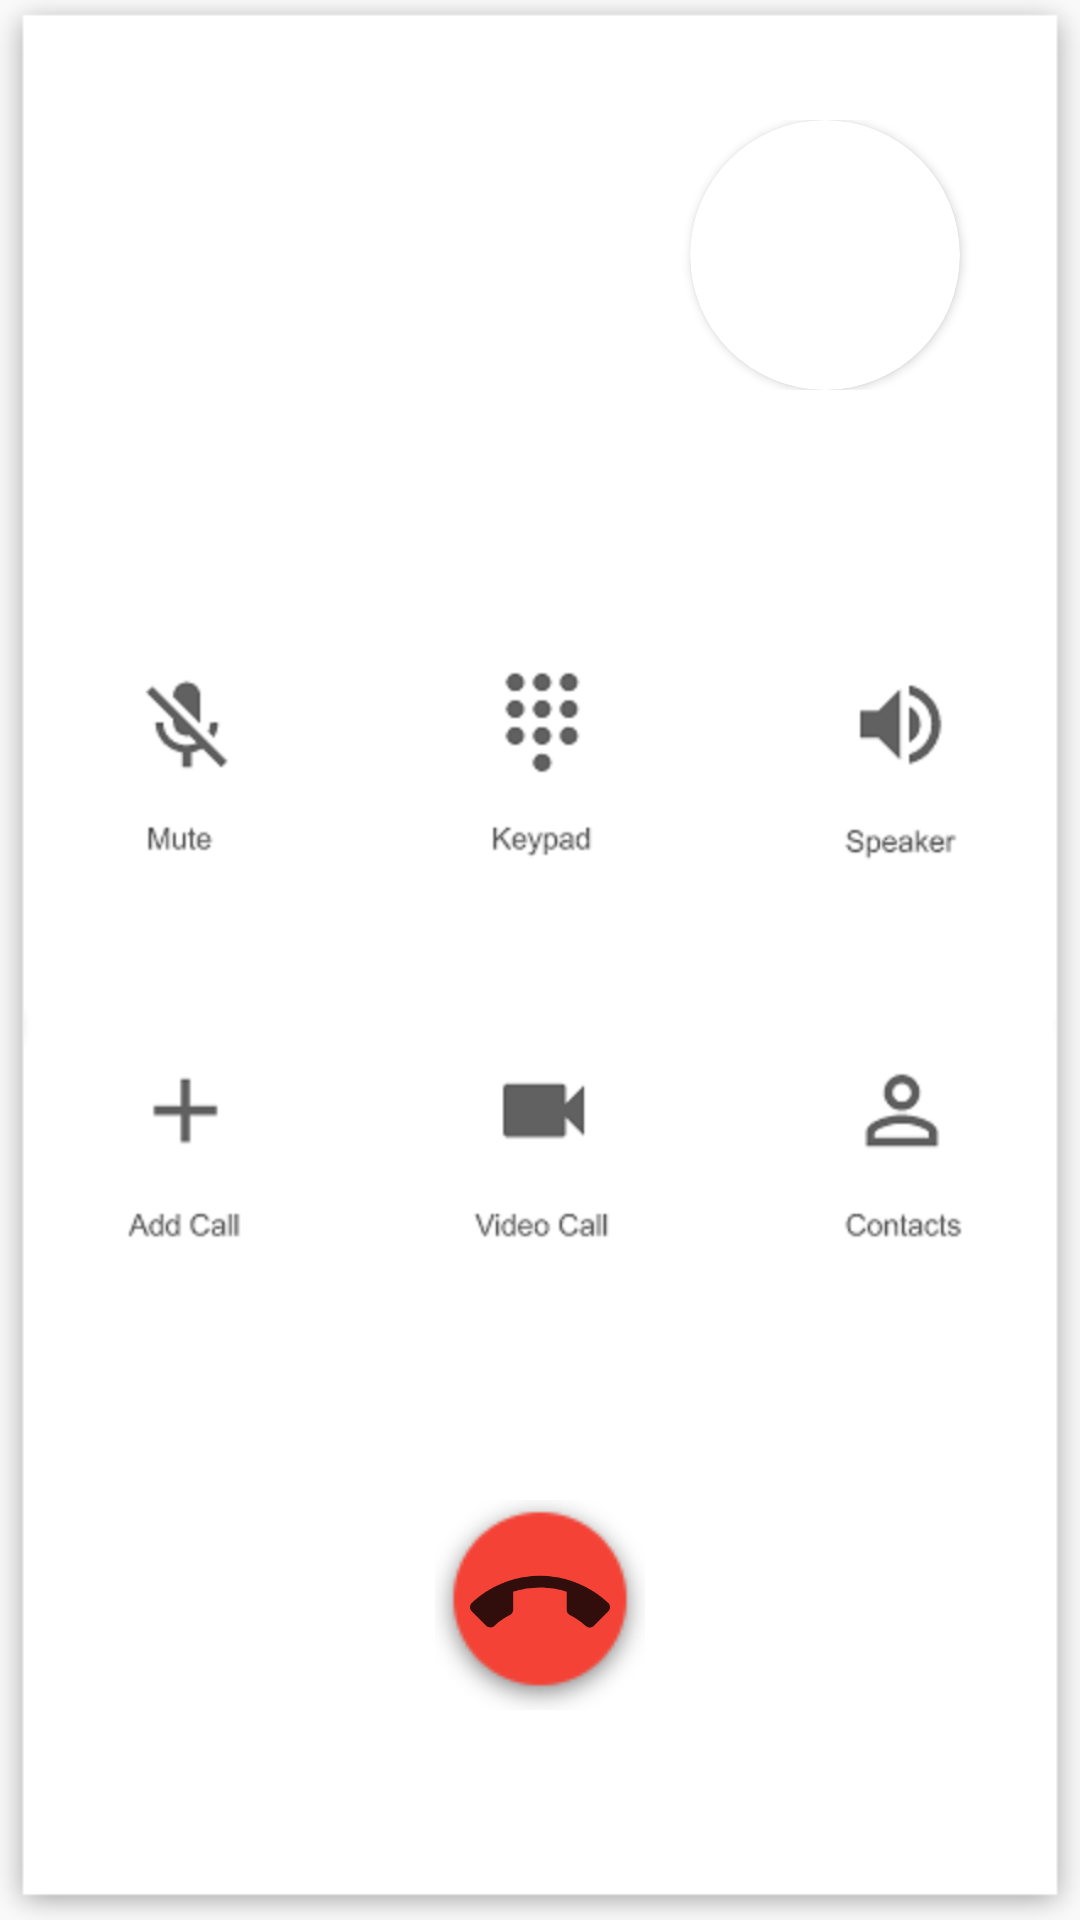

Icon click points for this 1080*1920 phone screenshot, format (x=x, y=y):
call end: (x=540, y=1605)
